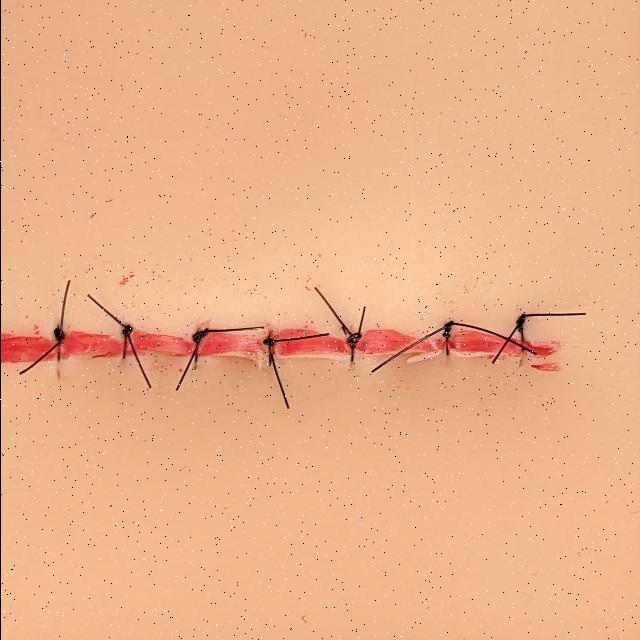knot_good: (506, 304, 538, 329), (114, 314, 142, 337)
knot_perfect: (42, 313, 80, 346), (435, 309, 464, 335)
knot_tight: (180, 311, 222, 345), (342, 315, 372, 346), (254, 324, 282, 349)
suture_good: (333, 349, 374, 418), (179, 348, 213, 416), (113, 340, 137, 411), (49, 343, 70, 406)
suture_tight: (504, 330, 545, 404), (249, 349, 285, 423), (431, 336, 461, 394)
